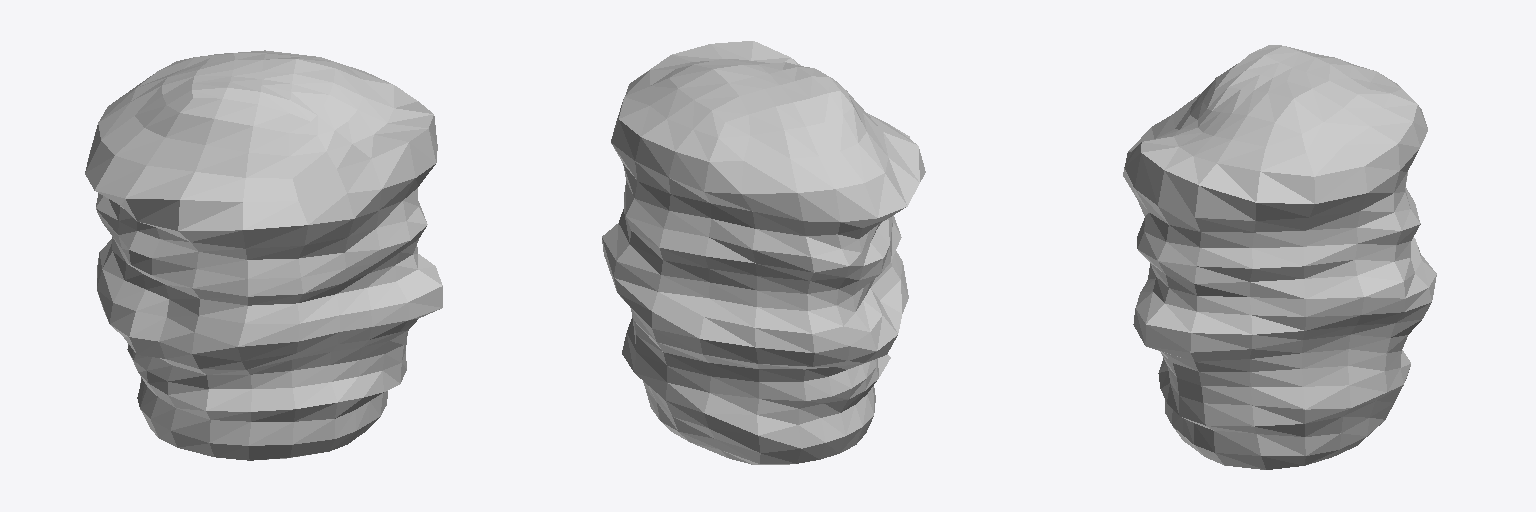
File: PM3D_rock022_001.OBJ
3 views of the same model, side by side, from view 1: azimuth 30°, elevation 25°; view 2: azimuth 150°, elevation 25°; view 3: azimuth 270°, elevation 25° (orthographic).
Parts seen in each view (by area): view 1: Group38152; view 2: Group38152; view 3: Group38152.
Part boxes in pixels (x1,y1,x2,y2): Group38152: (85, 50, 442, 460); Group38152: (602, 41, 925, 464); Group38152: (1123, 45, 1436, 469).
Size of the model in its own units: 2672 by 3102 by 2413.